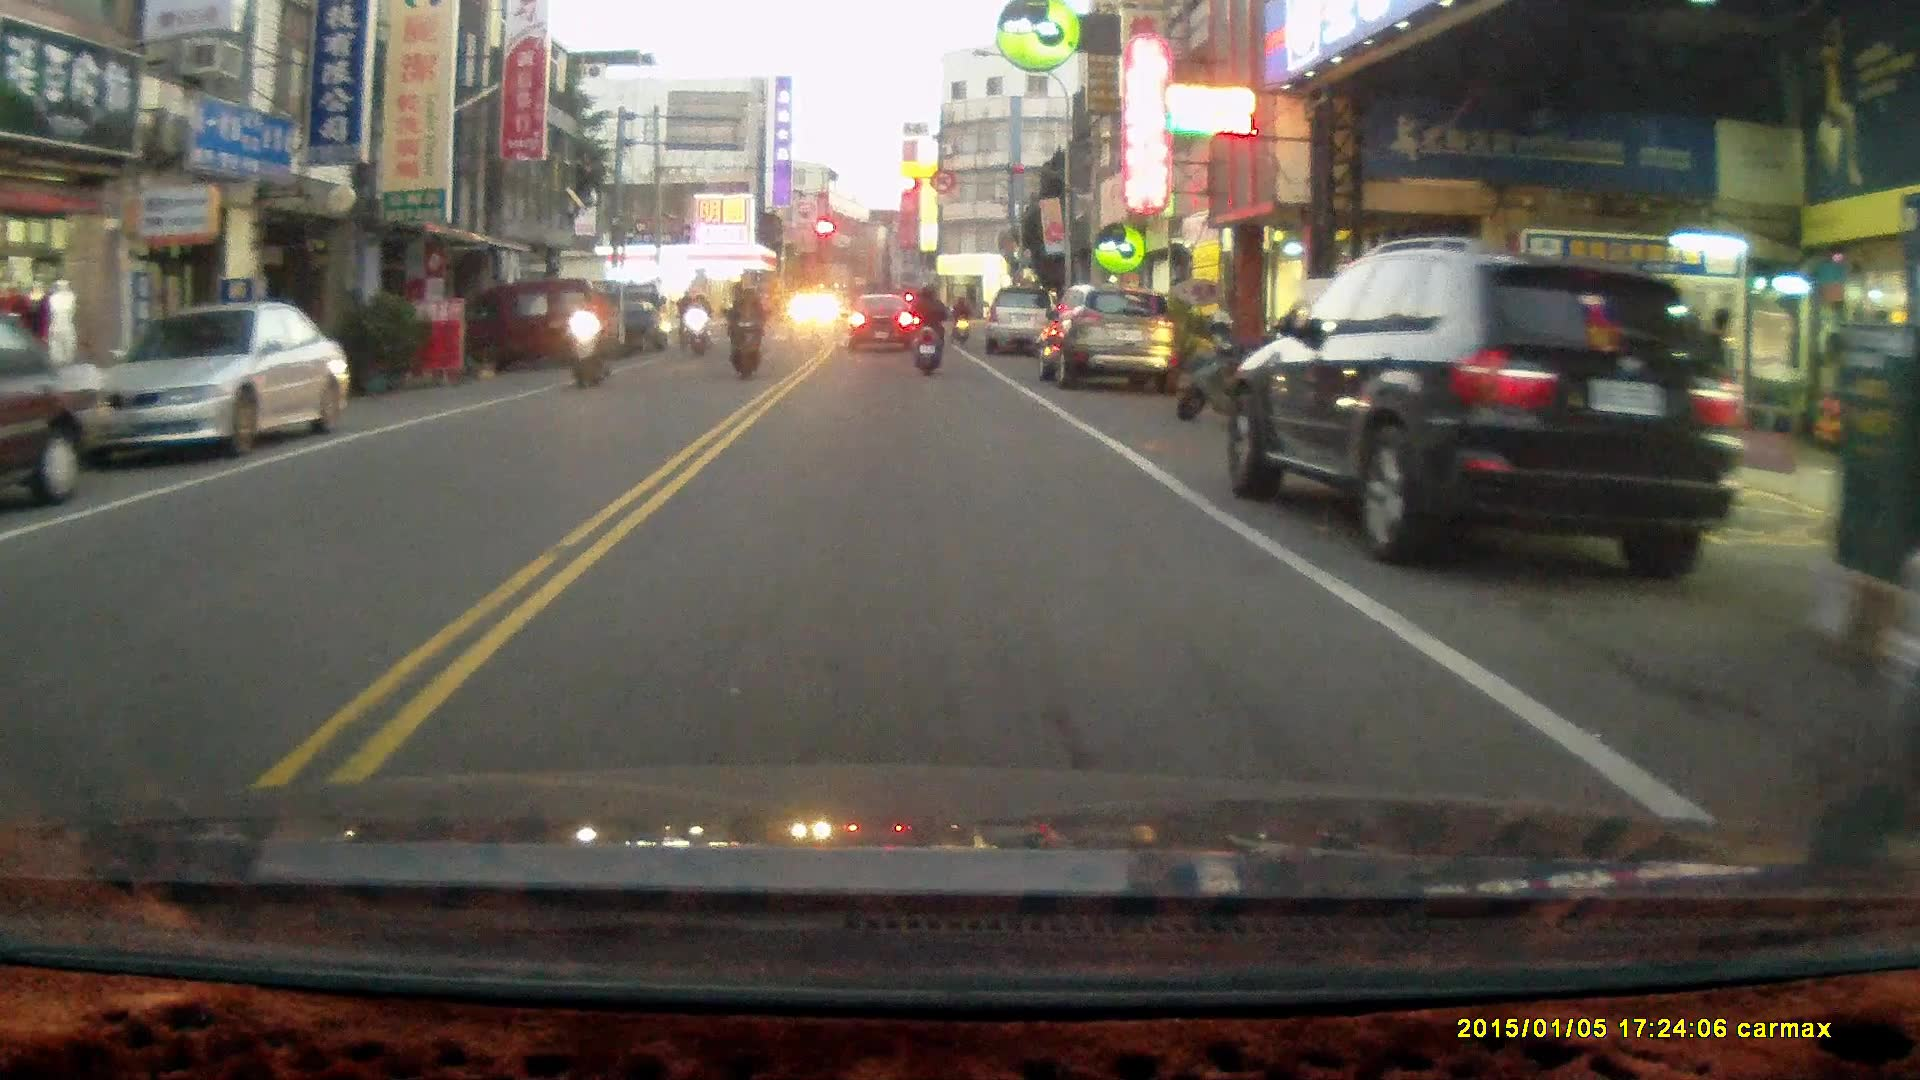rider: (568, 279, 612, 388), (721, 284, 762, 382), (909, 278, 948, 377), (684, 291, 711, 360), (948, 293, 969, 344)
vehicle: (1226, 243, 1737, 584), (63, 300, 358, 462), (3, 313, 115, 518), (1037, 285, 1177, 394), (496, 278, 616, 370), (986, 289, 1067, 363)
